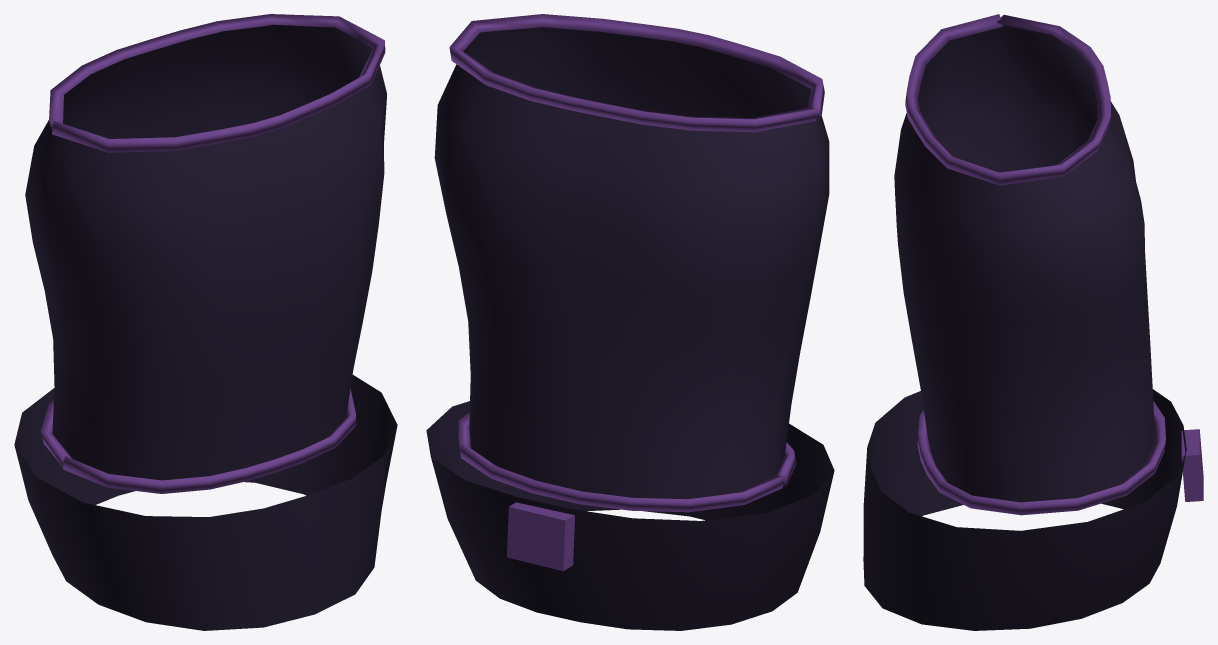
Rendered from witch_dress.glb.
The picture shows the model from 3 angles, left to right: view 1: azimuth 30°, elevation 25°; view 2: azimuth 150°, elevation 25°; view 3: azimuth 270°, elevation 25°; orthographic projection. The views are drawn at different scales.
Parts seen in each view (by area): view 1: witch_dress_chest; view 2: witch_dress_chest; view 3: witch_dress_chest.
Boxes of the visible parts, left/top/right/bottom form: witch_dress_chest: left=14, top=14, right=397, bottom=630; witch_dress_chest: left=426, top=14, right=834, bottom=630; witch_dress_chest: left=863, top=14, right=1203, bottom=630.
Bounding box in the file's own units: 0.3841 × 0.5245 × 0.3341.
